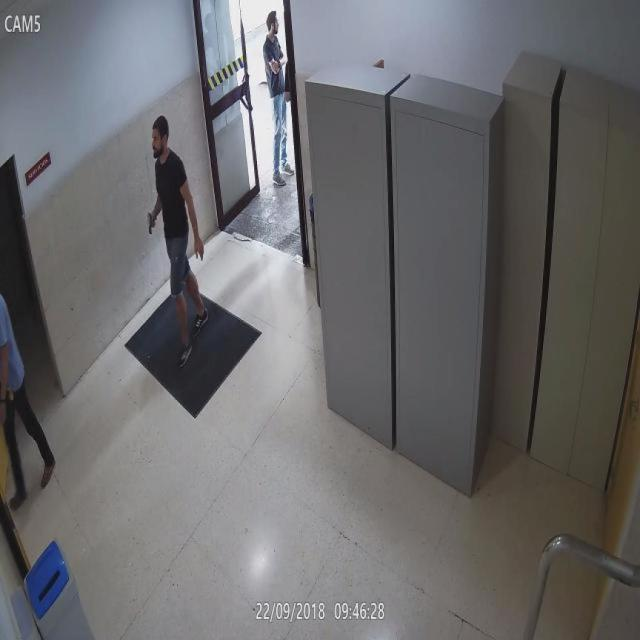pistol: (146, 210, 157, 235)
